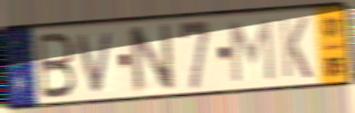7: (177, 19, 213, 93)
B: (37, 32, 78, 102)
K: (277, 15, 314, 80)
M: (227, 16, 277, 85)
N: (125, 20, 177, 97)
V: (75, 29, 117, 96)
